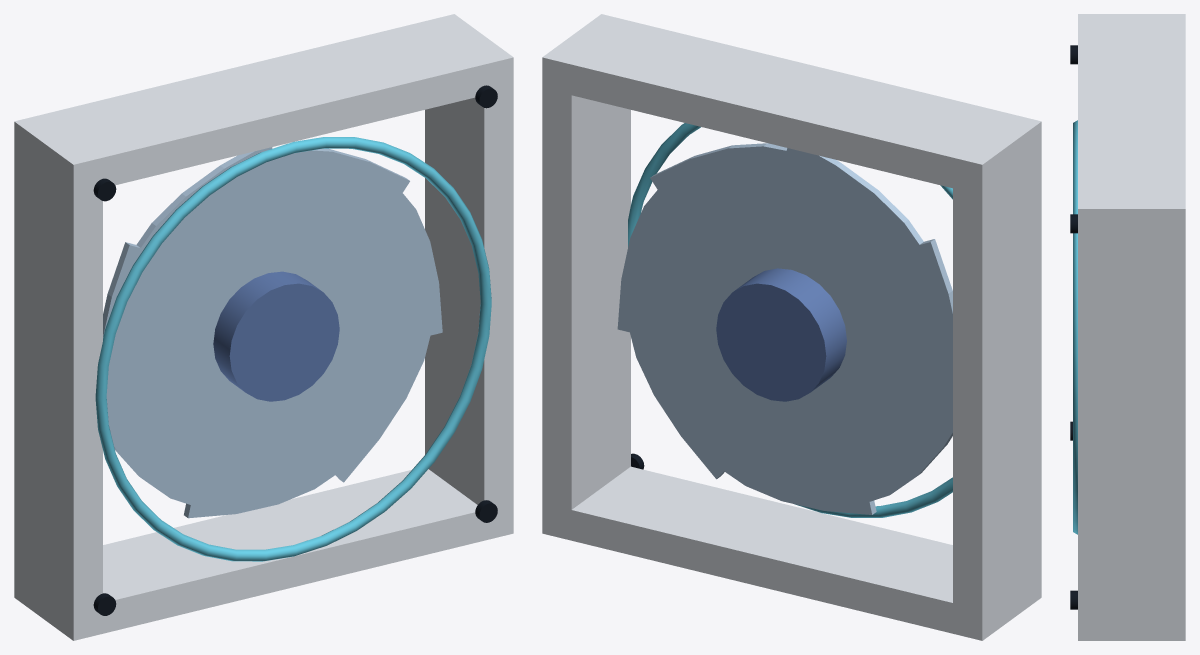
File: retail-lian-li-uni-fan-tl-120-lcd-wireless-white.glb
3 renders of one model, left to right at view 1: azimuth 30°, elevation 25°; view 2: azimuth 150°, elevation 25°; view 3: azimuth 270°, elevation 25°, orthographic. The views are drawn at different scales.
Parts seen in each view (by area): view 1: Frame edge (×4), Blade (×7), Intake rim, Motor hub; view 2: Frame edge (×4), Blade (×7), Motor hub, Intake rim; view 3: Frame edge (×3), Intake rim.
Part boxes in pixels (x1,y1,x2,y2): Frame edge (×4): (14,14,513,640); Blade (×7): (103,147,442,518); Intake rim: (95,137,491,561); Motor hub: (213,271,339,401); Frame edge (×4): (542,14,1041,640); Blade (×7): (617,143,952,514); Motor hub: (716,268,846,401); Intake rim: (628,123,952,517); Frame edge (×3): (1078,14,1185,640); Intake rim: (1073,120,1077,534).
Bounding box in the file's own units: 0.12 × 0.124 × 0.03.
